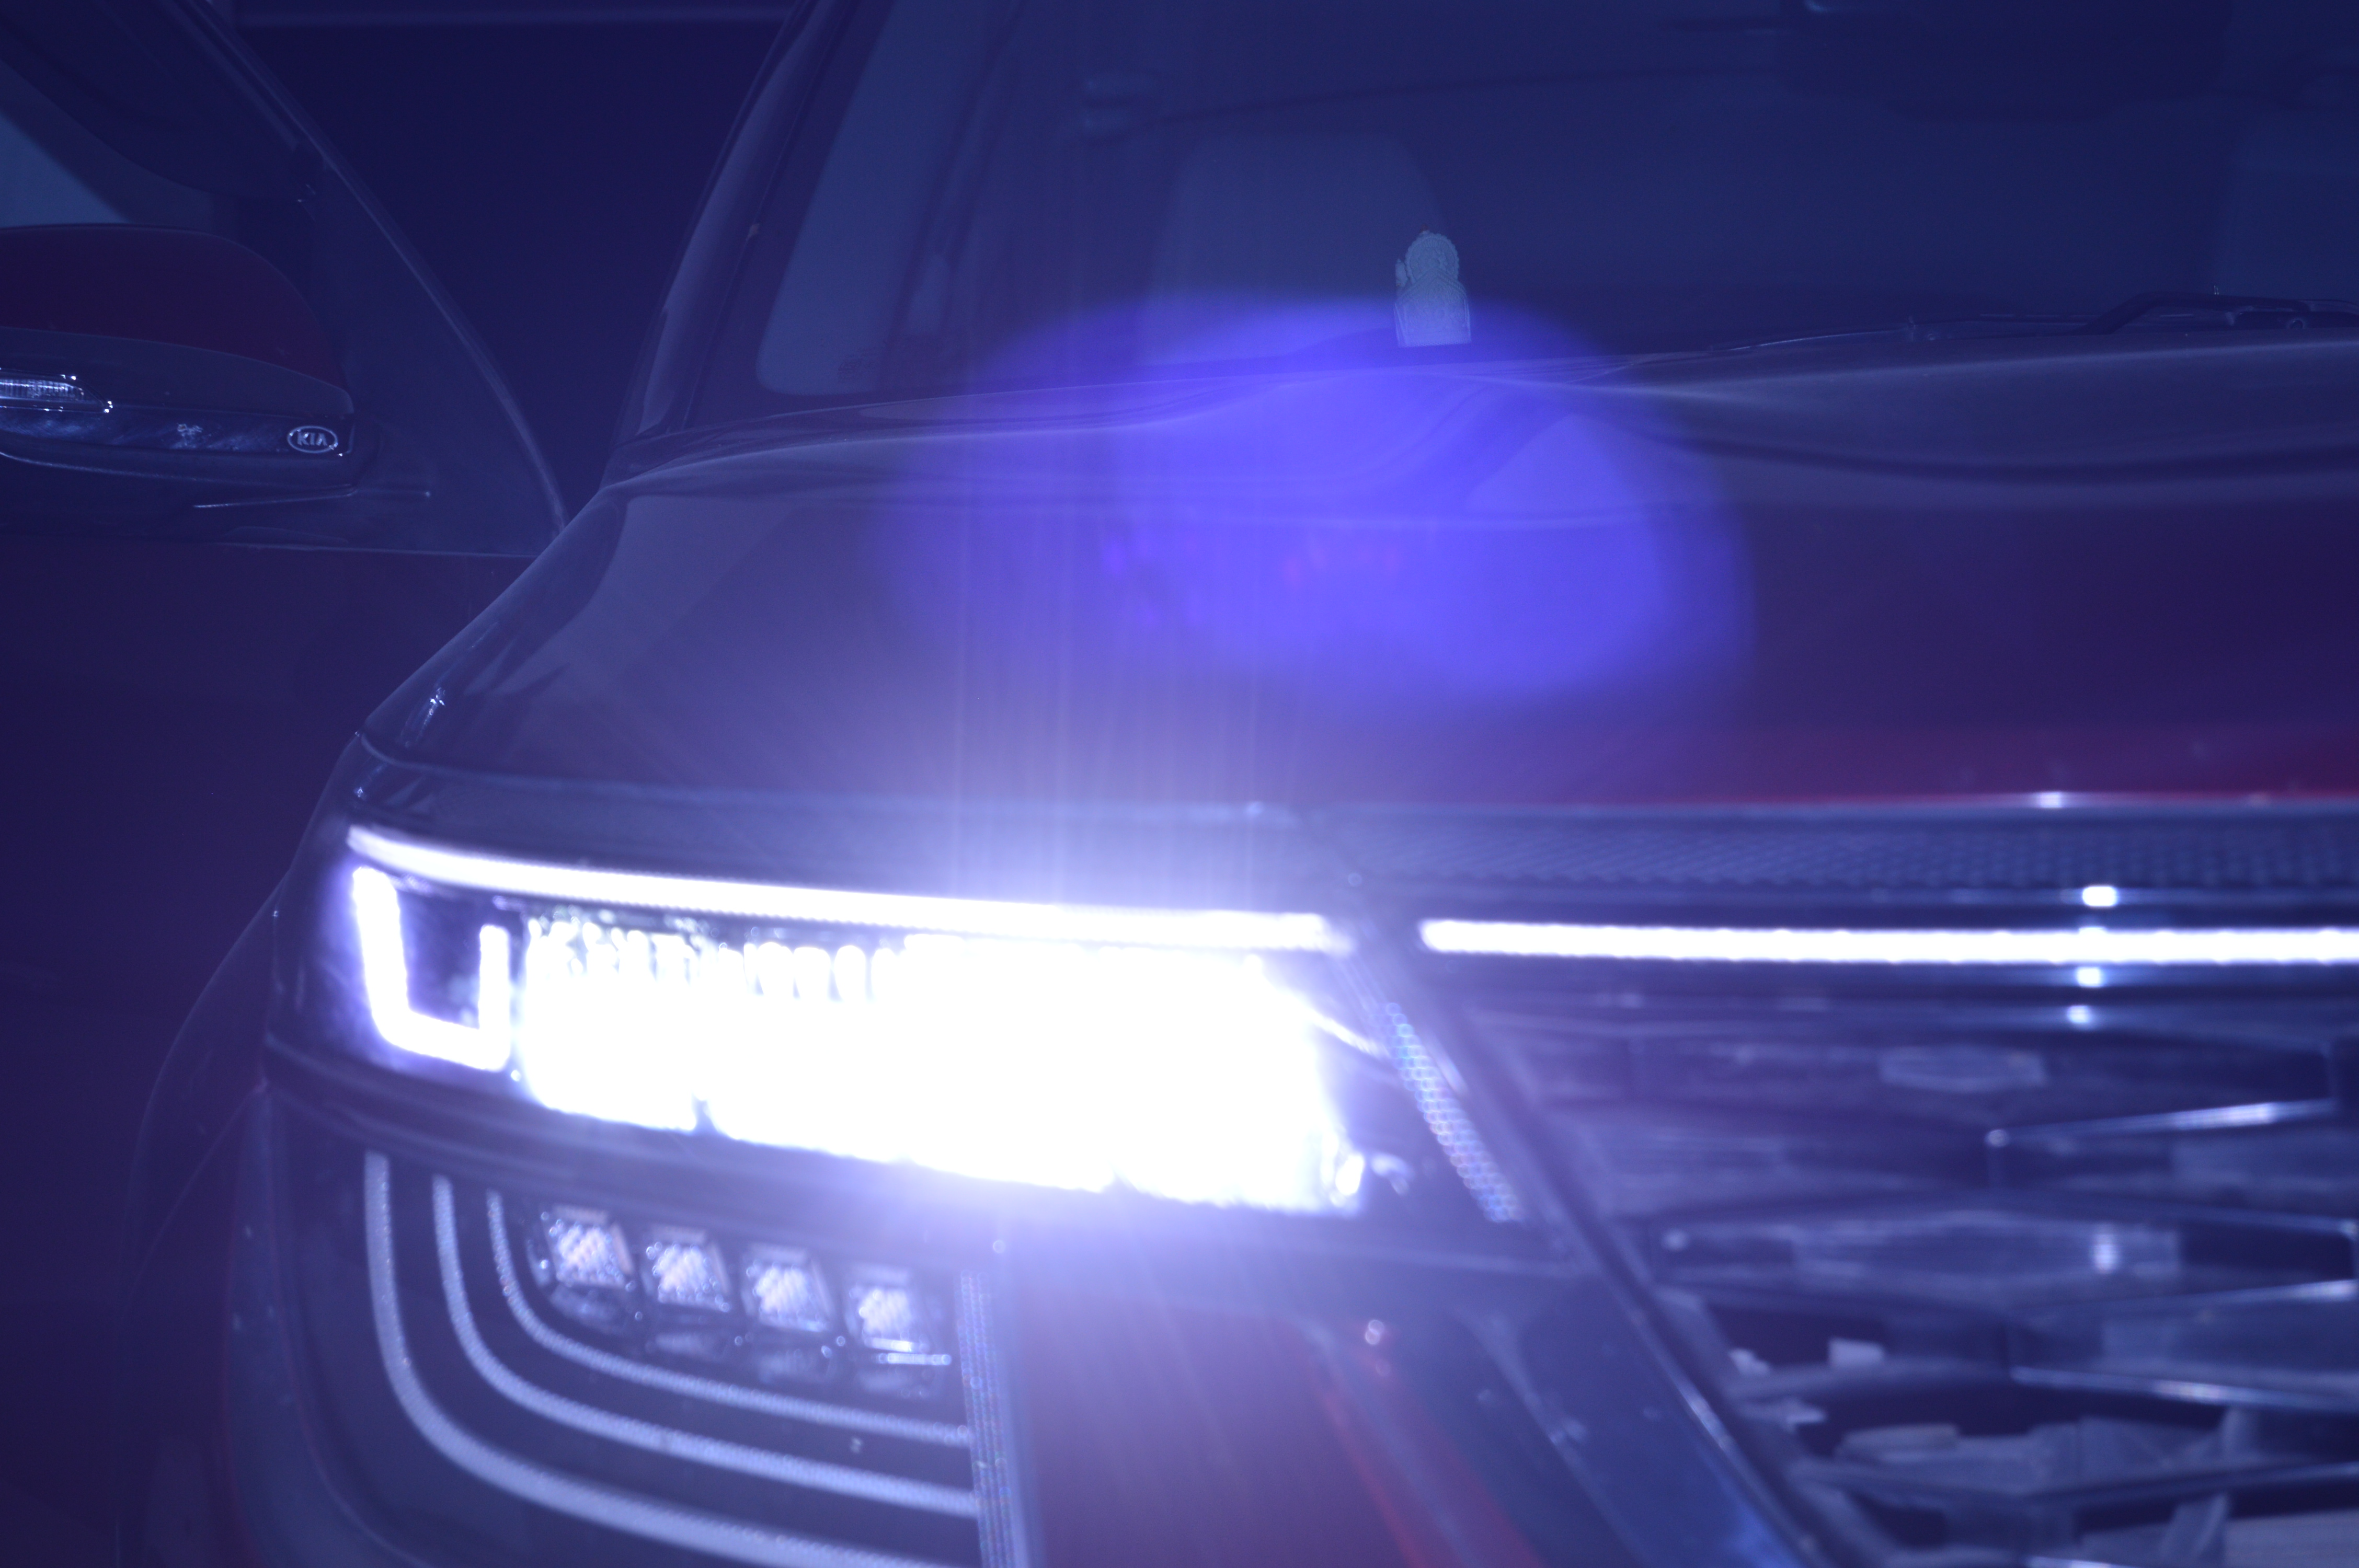Glare: (523, 924, 1360, 1227)
